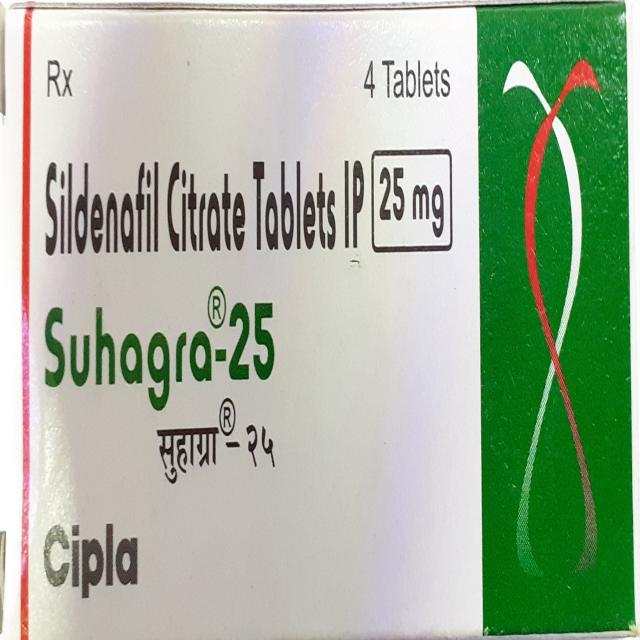drug-name: (37, 286, 289, 408)
